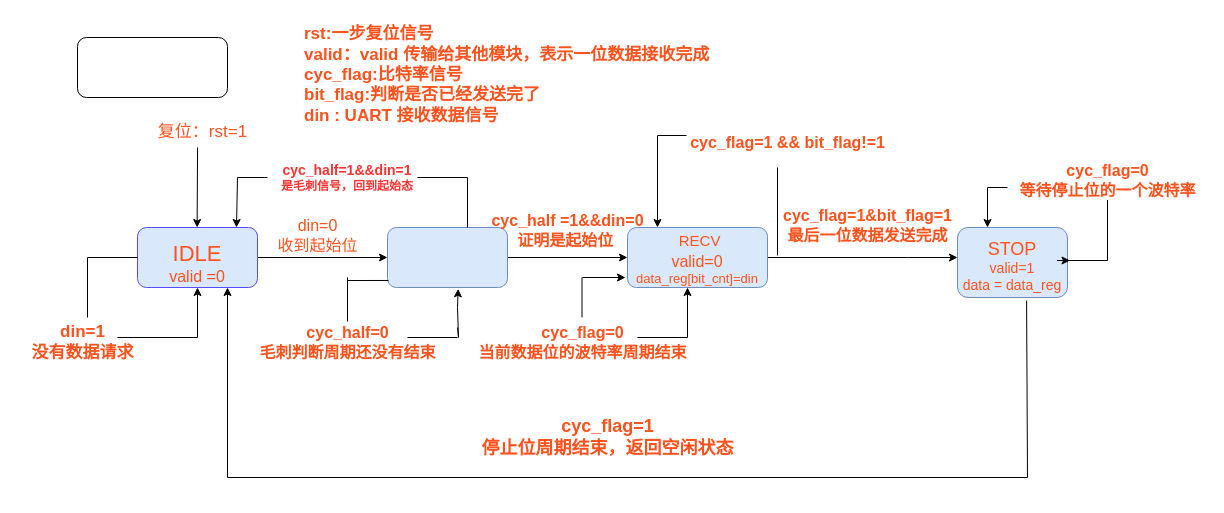
Image size: 1224x513. Some labels were removed from this diagram. The shapes that lost their labels are listed below. From the top down, each one's box as (x1, y1, x2, y2) in pixels, then its label:
(76, 36, 228, 98): Moore状态图
(386, 226, 508, 288): START valid=0
